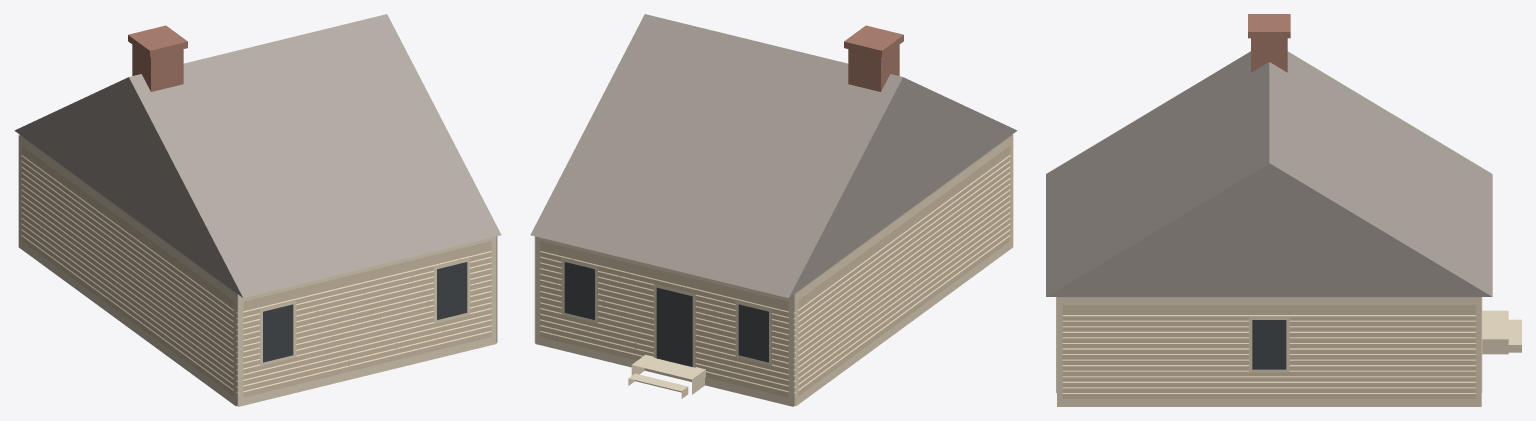
File: recon_1835_blk_randolph_wells_d5_03__inferred_1835.glb
3 views of the same model, side by side, from view 1: azimuth 30°, elevation 25°; view 2: azimuth 150°, elevation 25°; view 3: azimuth 270°, elevation 25° (orthographic). The views are drawn at different scales.
Parts seen in each view (by area): view 1: recon_1835_blk_randolph_wells_d5_03__inferred_1835; view 2: recon_1835_blk_randolph_wells_d5_03__inferred_1835; view 3: recon_1835_blk_randolph_wells_d5_03__inferred_1835.
Boxes of the visible parts, <box> form: recon_1835_blk_randolph_wells_d5_03__inferred_1835: <box>14,14,501,406</box>; recon_1835_blk_randolph_wells_d5_03__inferred_1835: <box>530,14,1017,406</box>; recon_1835_blk_randolph_wells_d5_03__inferred_1835: <box>1046,14,1521,406</box>.
Bounding box in the file's own units: 6.72 × 6.91 × 10.86.
